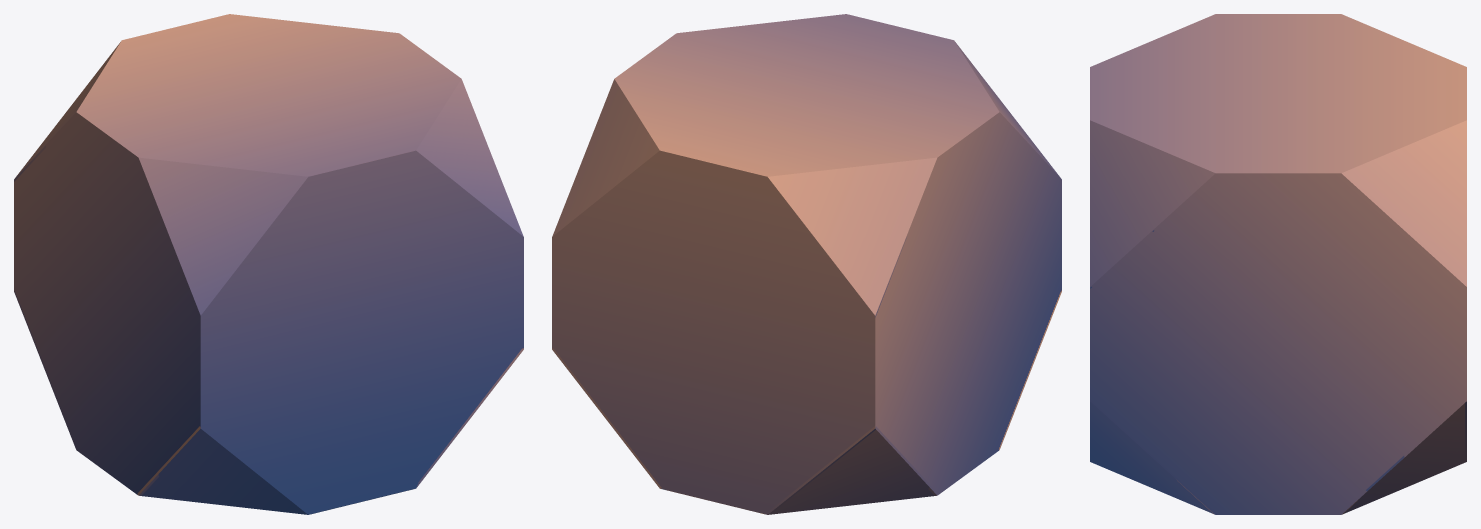
The model's file is Truncated Cube.glb.
The picture shows the model from 3 angles, left to right: view 1: azimuth 30°, elevation 25°; view 2: azimuth 150°, elevation 25°; view 3: azimuth 270°, elevation 25°; orthographic projection.
Parts seen in each view (by area): view 1: Truncated Cube; view 2: Truncated Cube; view 3: Truncated Cube.
Part boxes in pixels (left/top/right/bottom): Truncated Cube: left=14, top=14, right=523, bottom=514; Truncated Cube: left=552, top=14, right=1061, bottom=514; Truncated Cube: left=1090, top=14, right=1466, bottom=514.
Size of the model in its own units: 1.21 by 1.21 by 1.21.
Materials: 1 (1 with a texture image).
